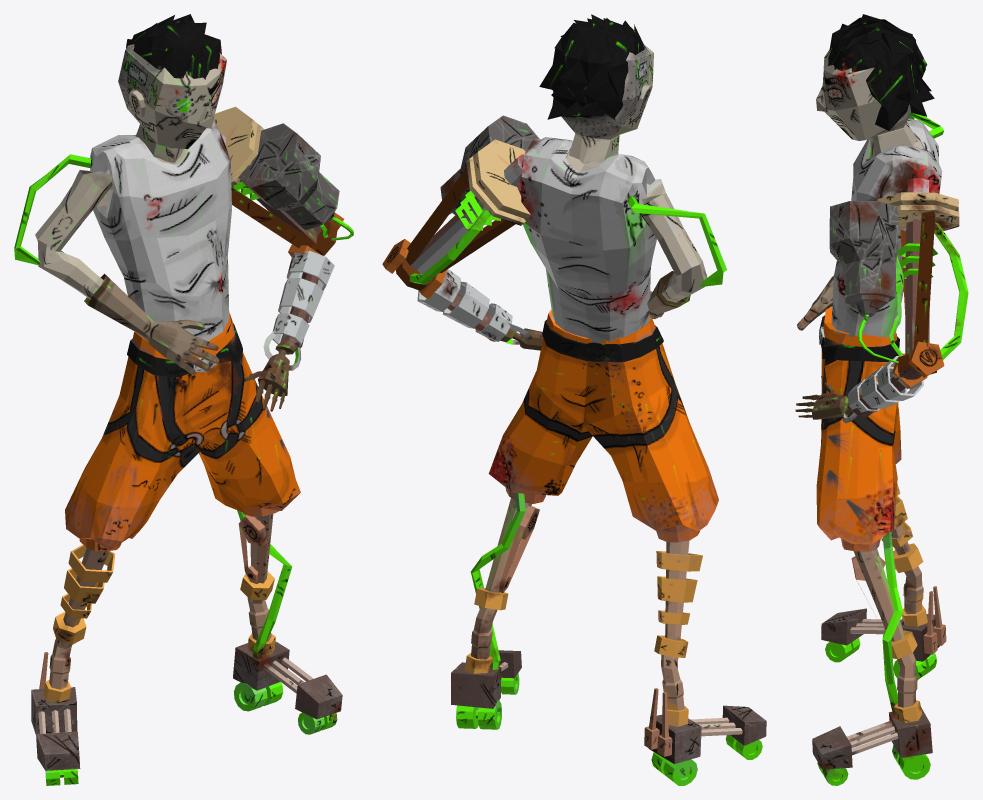
Rendered from CyborgFINALAnimation_000054.obj.
The picture shows the model from 3 angles, left to right: view 1: azimuth 30°, elevation 25°; view 2: azimuth 150°, elevation 25°; view 3: azimuth 270°, elevation 25°; orthographic projection. The views are drawn at different scales.
Visible parts, largest first — view 1: CyborgMesh_Cube.002; view 2: CyborgMesh_Cube.002; view 3: CyborgMesh_Cube.002.
Boxes of the visible parts, x1,y1,x2,y2 form: CyborgMesh_Cube.002: (14, 14, 353, 785); CyborgMesh_Cube.002: (382, 14, 766, 785); CyborgMesh_Cube.002: (795, 14, 968, 785).
Size of the model in its own units: 4.71 by 9.58 by 2.13.
